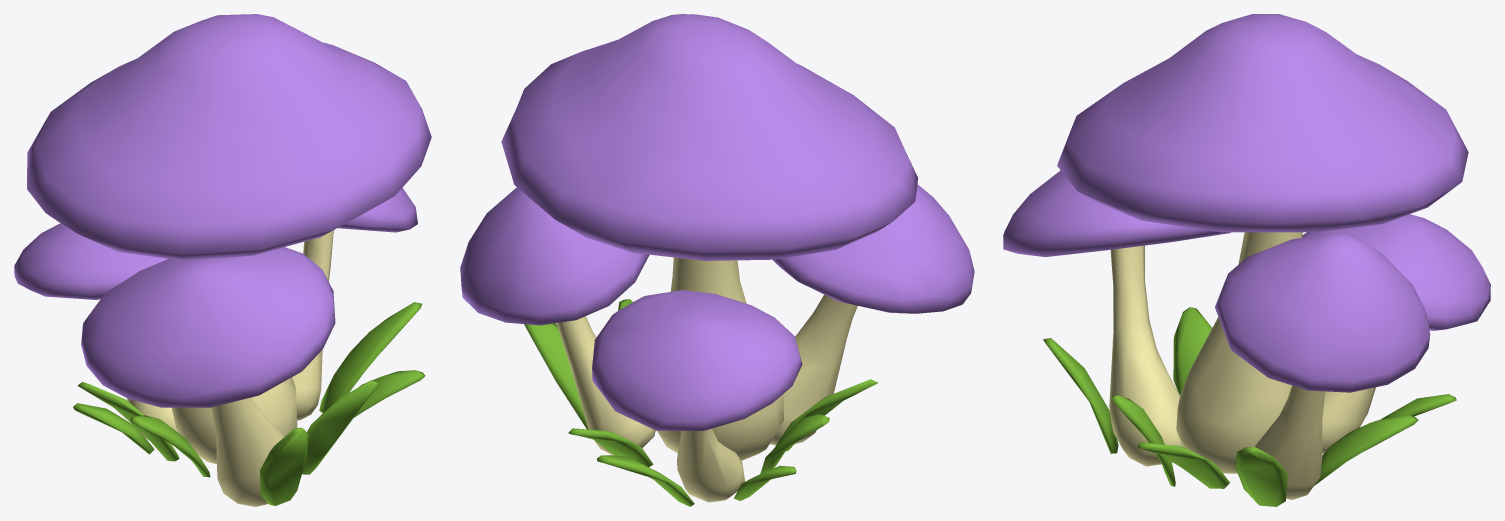
Rendered from sm_forest_mushrooms.fbx.
The picture shows the model from 3 angles, left to right: view 1: azimuth 30°, elevation 25°; view 2: azimuth 150°, elevation 25°; view 3: azimuth 270°, elevation 25°; orthographic projection. The views are drawn at different scales.
Visible parts, largest first — view 1: Circle; view 2: Circle; view 3: Circle.
Part boxes in pixels (x1,y1,x2,y2): Circle: [14, 14, 431, 506]; Circle: [460, 14, 974, 506]; Circle: [1003, 14, 1490, 506].
Size of the model in its own units: 39.65 by 40.98 by 42.02.
